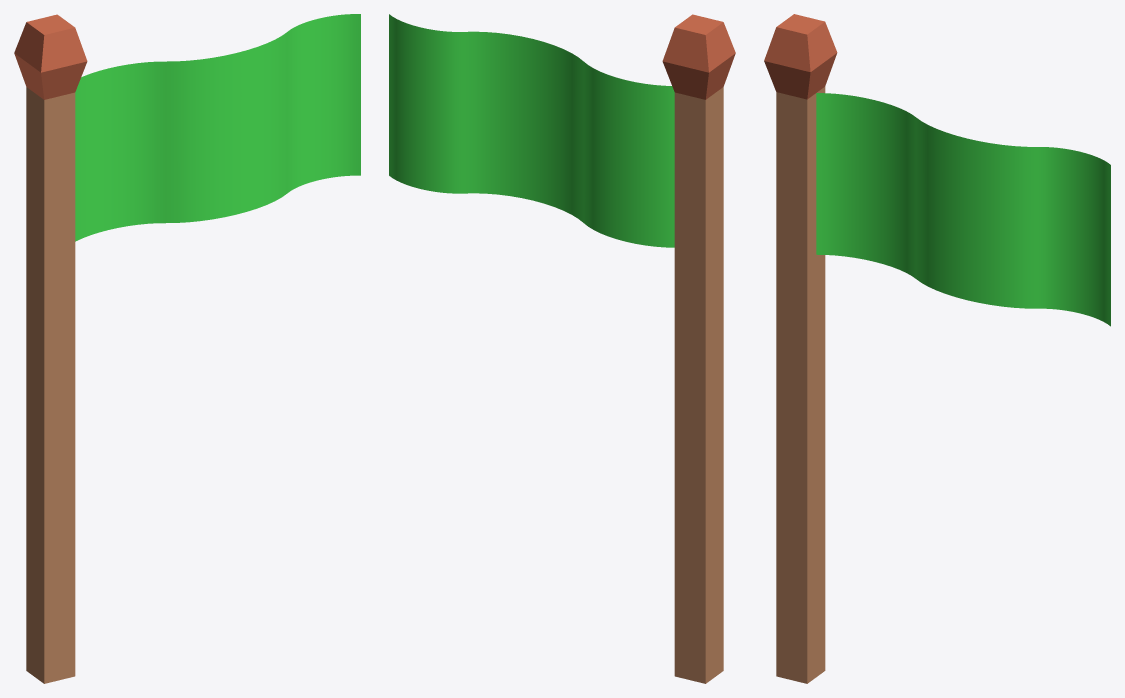
Rendered from GreenFlag.fbx.
The picture shows the model from 3 angles, left to right: view 1: azimuth 30°, elevation 25°; view 2: azimuth 150°, elevation 25°; view 3: azimuth 330°, elevation 25°; orthographic projection.
Parts seen in each view (by area): view 1: mergedBlocks; view 2: mergedBlocks; view 3: mergedBlocks.
Part boxes in pixels (box(x1,y1,x2,y2)): mergedBlocks: box(14, 14, 360, 683); mergedBlocks: box(389, 14, 735, 683); mergedBlocks: box(764, 14, 1110, 683).
Bounding box in the file's own units: 5.38 × 10 × 0.75.
